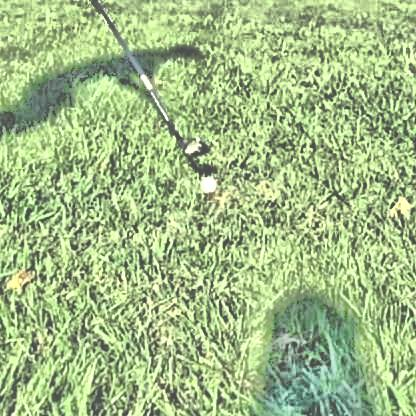golfball: (198, 173, 215, 190)
